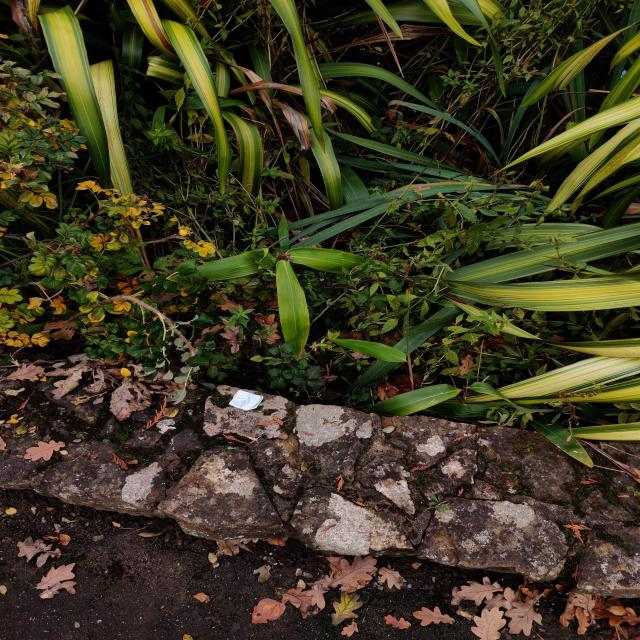litter: (233, 383, 268, 413)
